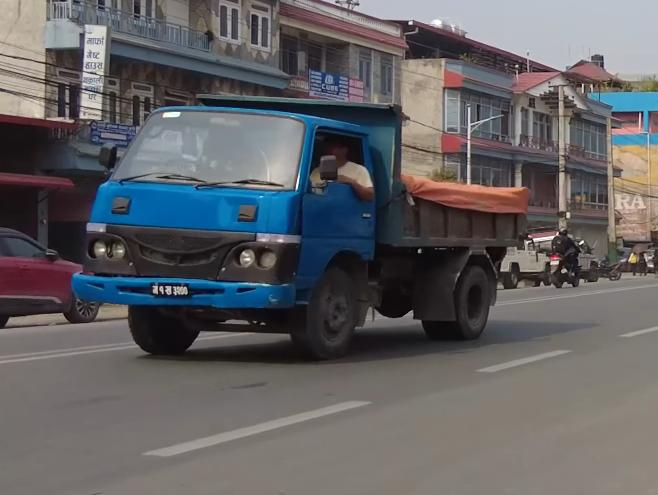bike: (545, 215, 585, 290)
car: (0, 220, 97, 326)
mini_truck: (79, 95, 528, 358)
